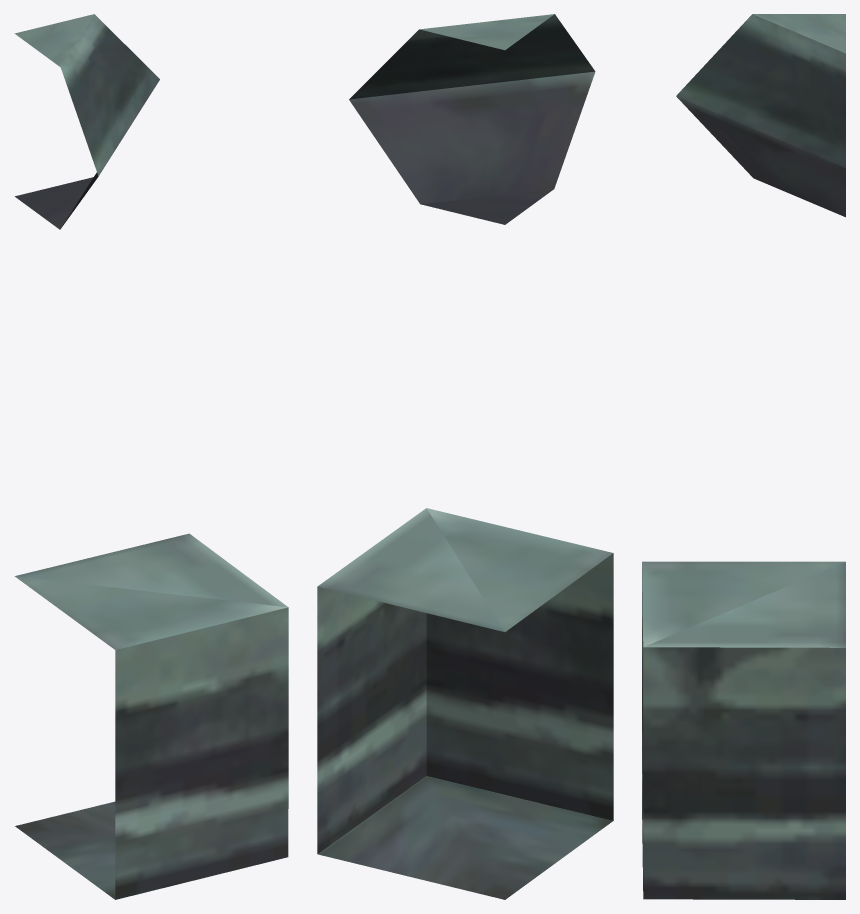
Rendered from crypt_railing_convex_01.fbx.
3 views of the same model, side by side, from view 1: azimuth 30°, elevation 25°; view 2: azimuth 150°, elevation 25°; view 3: azimuth 270°, elevation 25° (orthographic). The views are drawn at different scales.
Visible parts, largest first — view 1: crypt_railing_convex_01-0; view 2: crypt_railing_convex_01-0; view 3: crypt_railing_convex_01-0.
Part boxes in pixels (left/top/right/bottom): crypt_railing_convex_01-0: left=14, top=14, right=288, bottom=899; crypt_railing_convex_01-0: left=317, top=14, right=613, bottom=899; crypt_railing_convex_01-0: left=642, top=14, right=845, bottom=899.
Size of the model in its own units: 0.371 by 1.6 by 0.3706.
